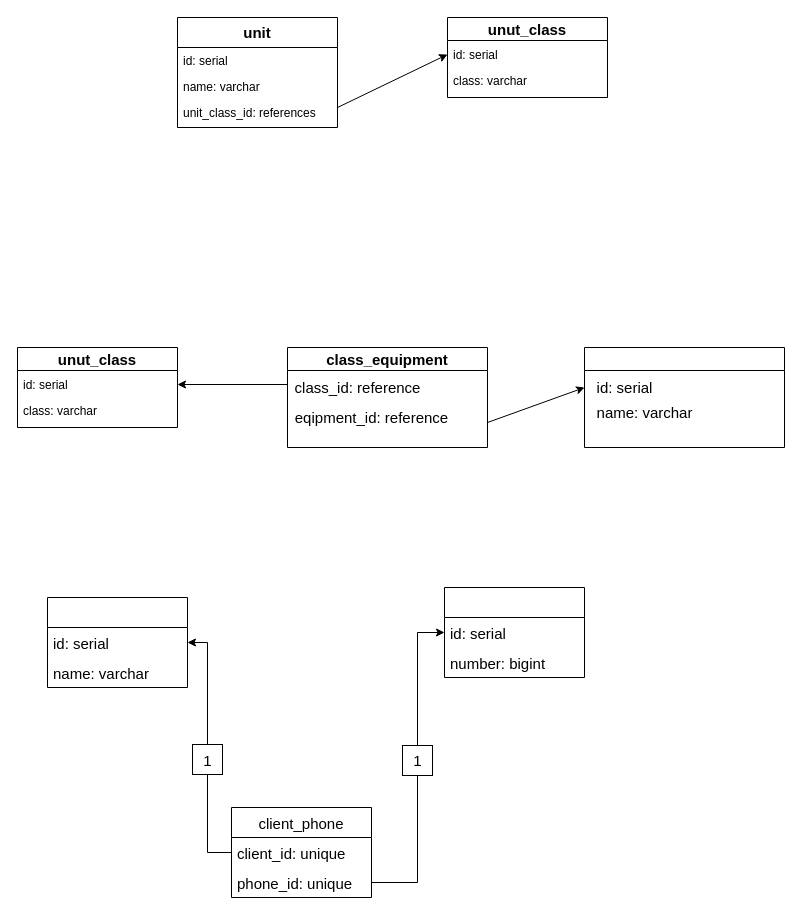
The diagram is 802 pixels wide and 915 high, and some of its shapes have lost their labels. The shapes that lost their labels are listed below. From the top down, each one's box as (x1, y1, x2, y2) in pixels, then its label:
(584, 346, 784, 448): equipment
(46, 596, 188, 688): client
(444, 586, 584, 678): phone_number
